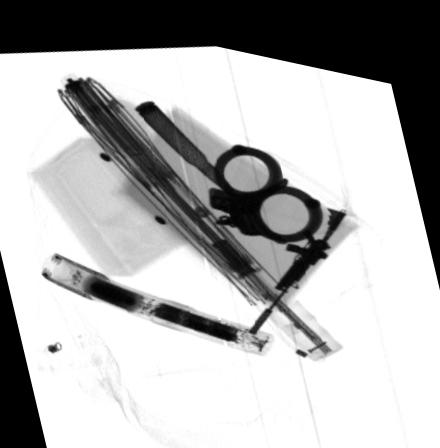Baton: (41, 248, 274, 344)
Bullet: (133, 92, 234, 182)
Gun: (246, 192, 348, 326)
HandCuffs: (211, 132, 323, 229)
